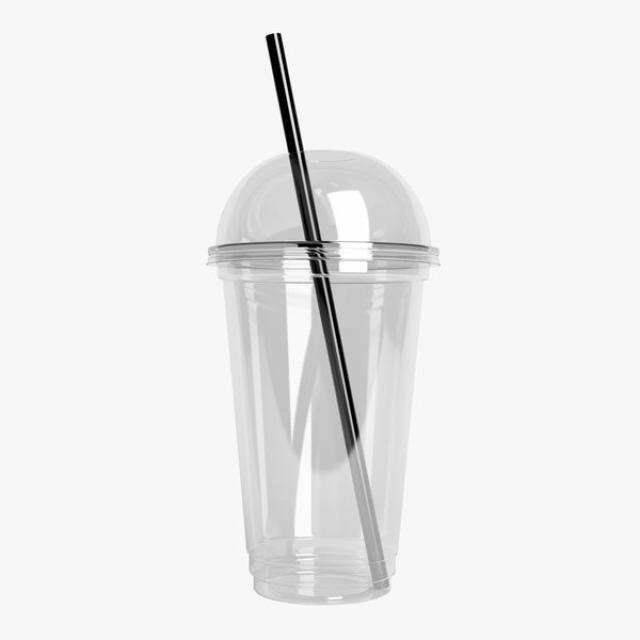Plastic: (212, 150, 440, 608), (264, 31, 386, 593)
